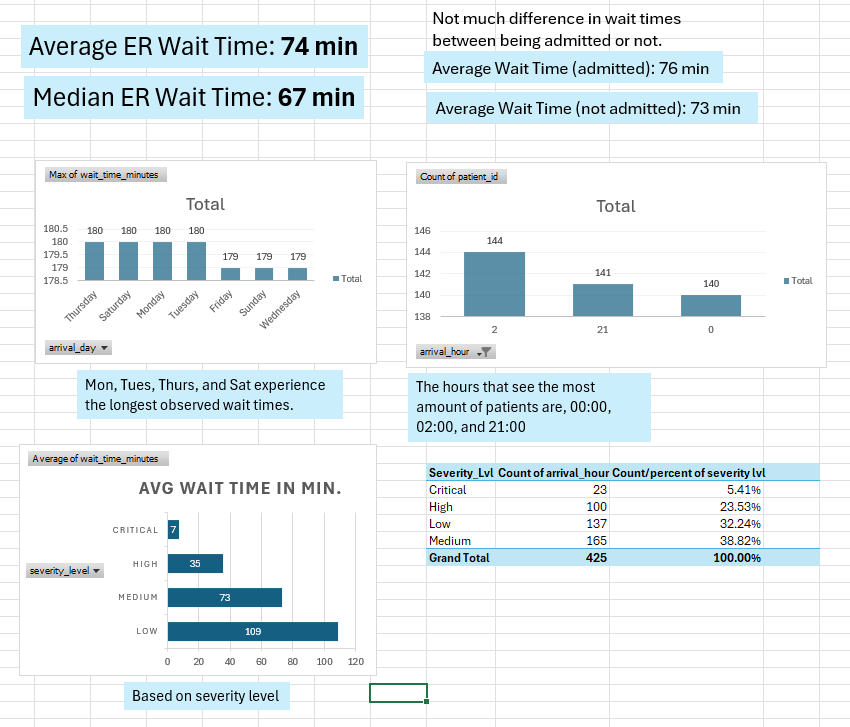

The page's visual inventory and layout, read from the dashboard file:
{"tool":"powerbi","page":{"name":"Page 1","canvas":[1280,720],"ordinal":0},"visuals":[{"type":"textbox","box":[465,0,350,92.9],"z":0},{"type":"barChart","title":"Total Patient Visits by Hour","fields":{"Category":["pivot_hrs_of_day_most_pts.Hours of Day"],"Y":["Sum(pivot_hrs_of_day_most_pts.Count of patient_id)"]},"box":[212.9,522.9,342.9,197.1],"z":1000},{"type":"clusteredColumnChart","title":"Max Wait Time by Day of Week","fields":{"Category":["pivot_max_wait-time_per-day.Row Labels"],"Y":["Sum(pivot_max_wait-time_per-day.Max of wait_time_minutes)"]},"box":[212.9,340,342.9,172.9],"z":2000},{"type":"clusteredBarChart","title":"Average Wait Time By Severity Level","fields":{"Category":["avg_wait-time_severity-lvl.Row Labels"],"Y":["Sum(avg_wait-time_severity-lvl.Average of wait_time_minutes)"]},"box":[212.9,82.9,1038.6,244.3],"z":3000},{"type":"textbox","box":[731.4,232.9,520,37.1],"z":5000},{"type":"pieChart","title":"Peak Times Total Patients Seen by Severity Level","fields":{"Category":["Severity_Lvl (Summary).Severity_Lvl"],"Y":["Sum(Severity_Lvl (Summary).Count of arrival_hour)"]},"box":[574.3,340,677.1,380],"z":6000},{"type":"slicer","title":"Max Wait Time by Day of Week","fields":{"Values":["pivot_max_wait-time_per-day.Row Labels","pivot_max_wait-time_per-day.Max of wait_time_minutes"]},"box":[0,340,200,172.9],"z":6001}]}

Visuals, with their boxes on the page's 1280x720 design canvas (x1, y1, x2, y2). These are canvas units, not pixel positions in the 850x727 screenshot, which may show the page scaled, cropped or inside an application window:
textbox: [left=465, top=0, right=815, bottom=93]
"Total Patient Visits by Hour" barChart: [left=213, top=523, right=556, bottom=720]
"Max Wait Time by Day of Week" clusteredColumnChart: [left=213, top=340, right=556, bottom=513]
"Average Wait Time By Severity Level" clusteredBarChart: [left=213, top=83, right=1252, bottom=327]
textbox: [left=731, top=233, right=1251, bottom=270]
"Peak Times Total Patients Seen by Severity Level" pieChart: [left=574, top=340, right=1251, bottom=720]
"Max Wait Time by Day of Week" slicer: [left=0, top=340, right=200, bottom=513]
